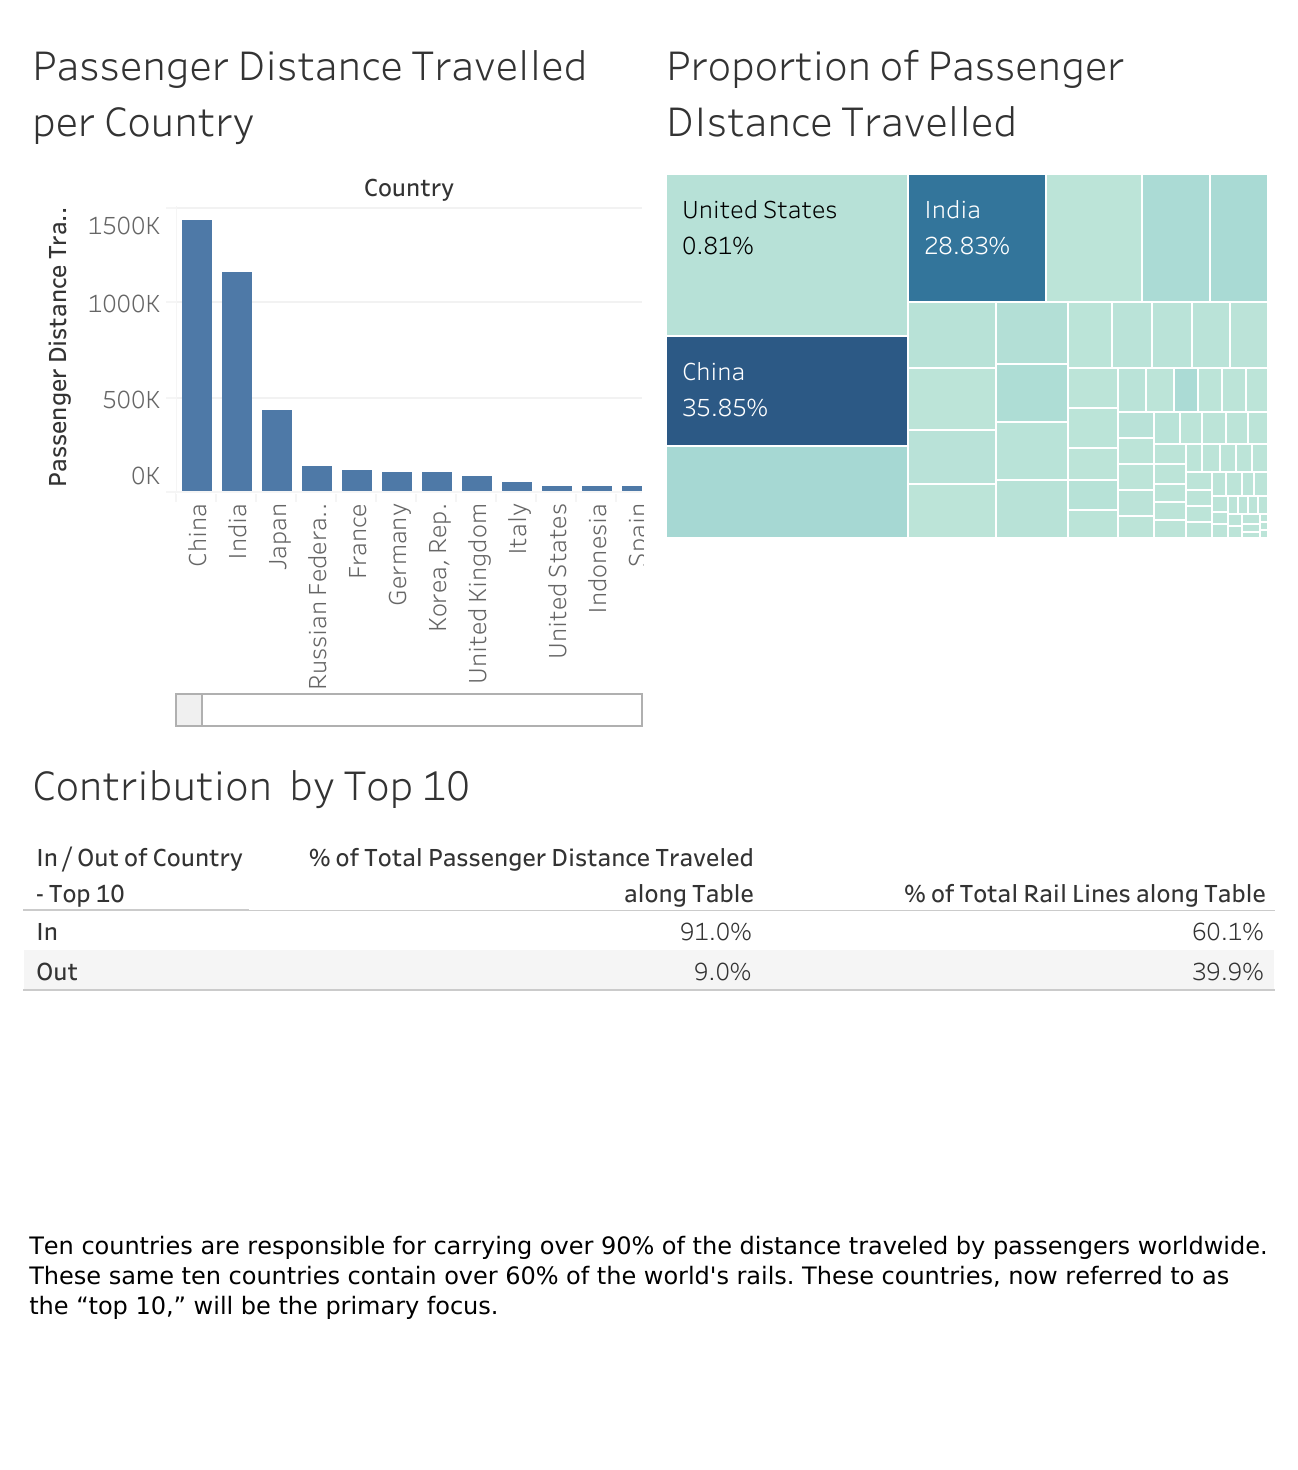

The dashboard page shown, as its layout file describes it:
{"tool":"tableau","page":{"name":"Dashboard 1","canvas":[650,860],"ordinal":0},"visuals":[{"type":"worksheet","title":"Passenger Distance Travelled per Country","mark":"Automatic","rows":["Railways, Passengers Carried"],"cols":["Country Name"],"box":[8,9.7,317,420.3]},{"type":"worksheet","title":"Proportion of Passenger DIstance Travelled","mark":"Automatic","box":[325,9.7,317,420.3]},{"type":"worksheet","title":"Contribution  by Top 10","mark":"Automatic","rows":["Country - Top 10"],"box":[8,430,634,210.1]},{"type":"text","box":[8,640.1,634,210.2]}]}

Visuals, with their boxes on the page's 650x860 design canvas (x1, y1, x2, y2). These are canvas units, not pixel positions in the 1298x1470 screenshot, which may show the page scaled, cropped or inside an application window:
"Passenger Distance Travelled per Country" worksheet: detection(8, 10, 325, 430)
"Proportion of Passenger DIstance Travelled" worksheet: detection(325, 10, 642, 430)
"Contribution  by Top 10" worksheet: detection(8, 430, 642, 640)
text: detection(8, 640, 642, 850)
